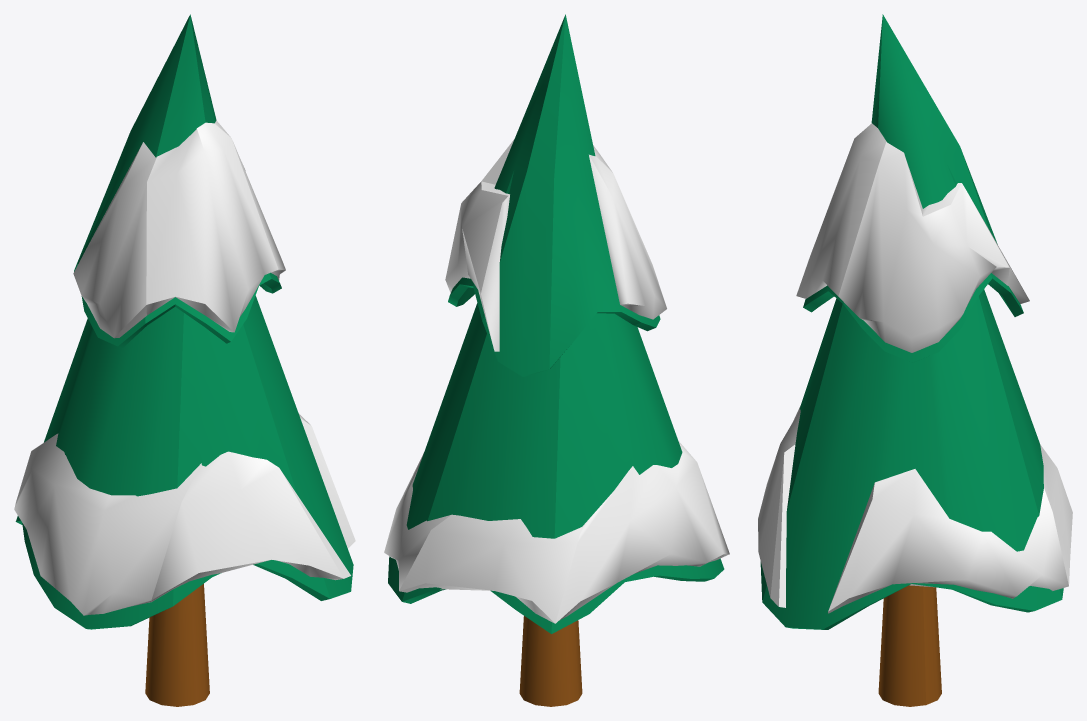
The model's file is tree_winter2.fbx.
3 views of the same model, side by side, from view 1: azimuth 30°, elevation 25°; view 2: azimuth 150°, elevation 25°; view 3: azimuth 270°, elevation 25° (orthographic). The views are drawn at different scales.
Visible parts, largest first — view 1: tree_winter2; view 2: tree_winter2; view 3: tree_winter2.
Part boxes in pixels (x1,y1,x2,y2): tree_winter2: (14,14,355,706); tree_winter2: (384,14,729,706); tree_winter2: (758,14,1072,706).
Bounding box in the file's own units: 313 × 719 × 302.
